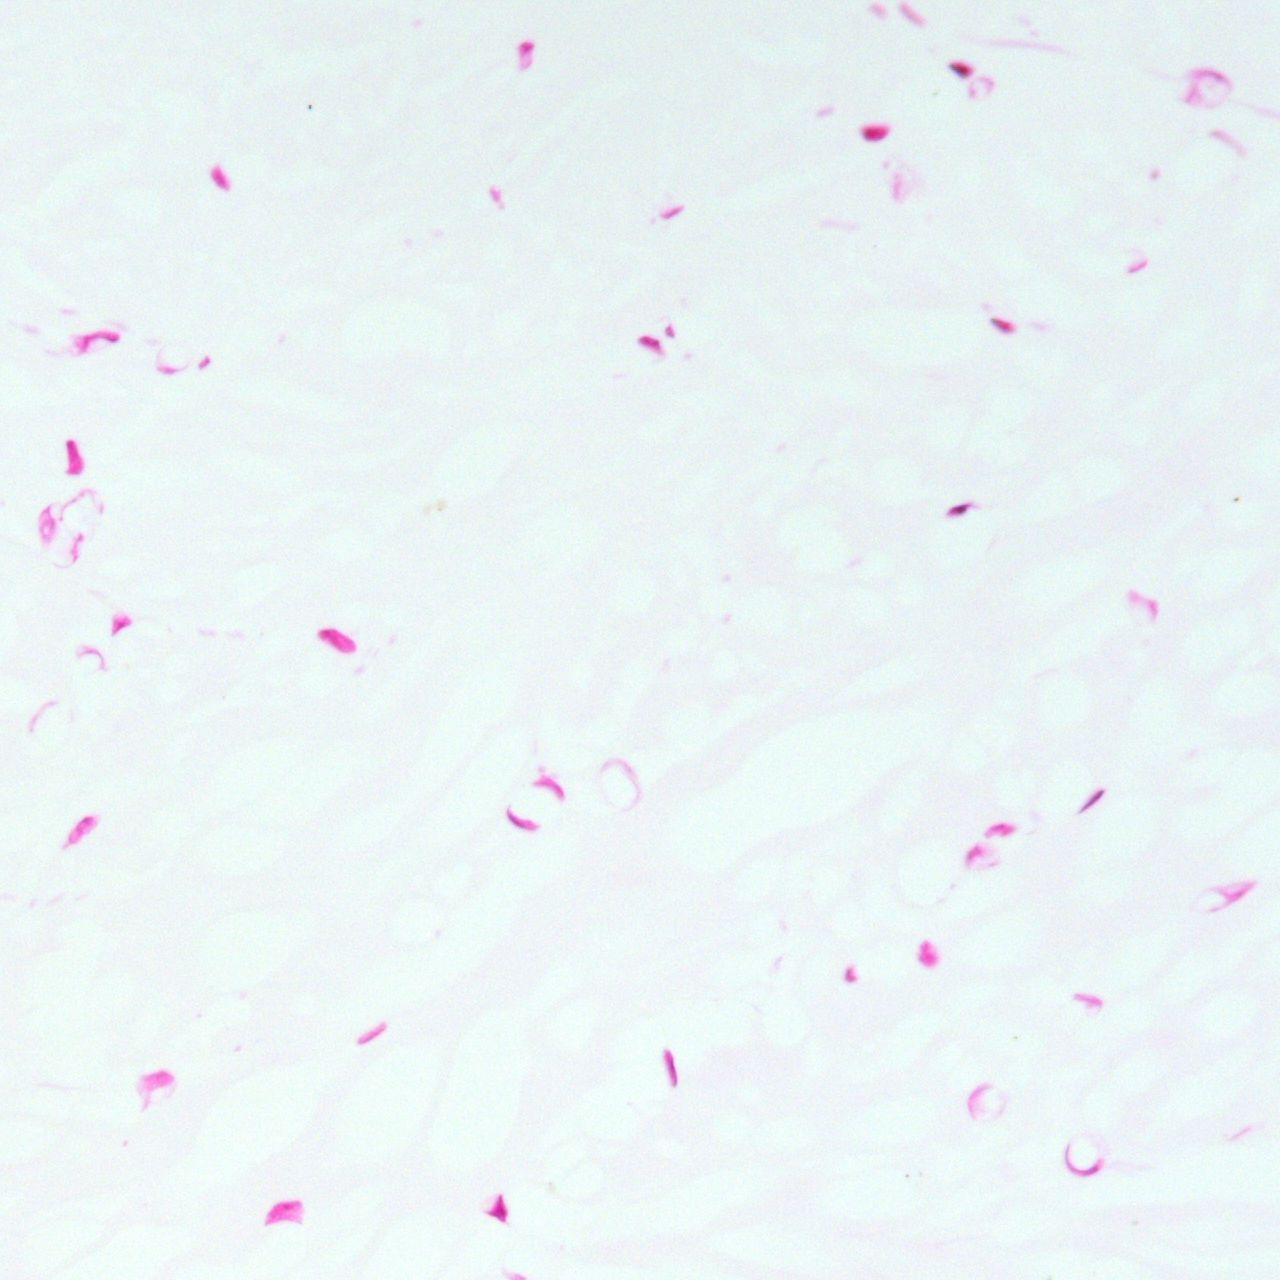dust: (307, 104, 312, 109)
nucleus-FG: (314, 617, 362, 660), (61, 812, 98, 852), (1075, 783, 1109, 817), (263, 1201, 305, 1226), (660, 1044, 681, 1089), (102, 606, 132, 636), (988, 309, 1017, 338), (944, 54, 973, 81), (945, 497, 978, 520), (64, 438, 84, 475), (634, 328, 663, 353), (486, 1196, 508, 1223), (862, 123, 888, 141), (519, 41, 535, 67)
